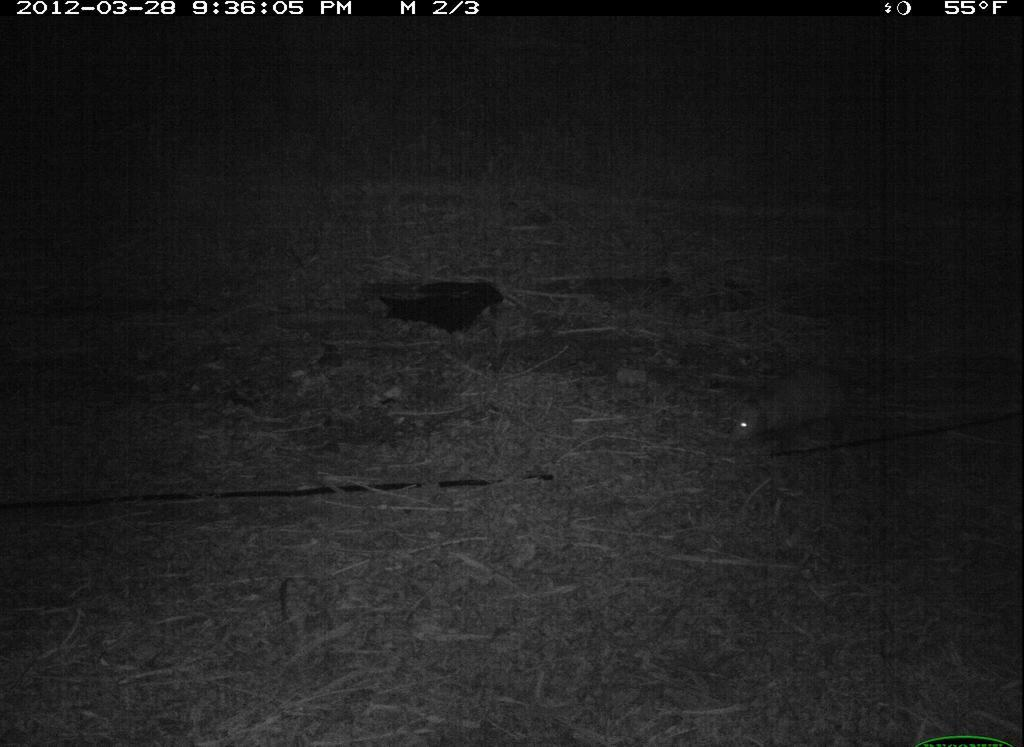opossum: (719, 356, 895, 464)
